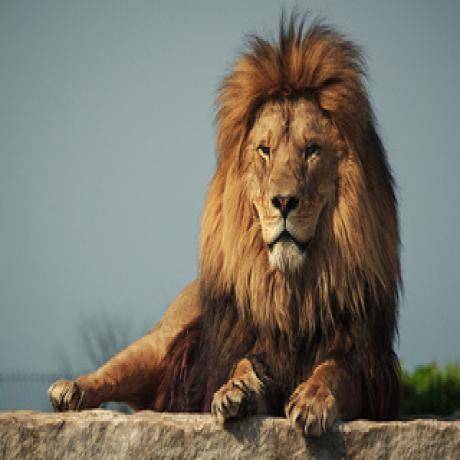Lion: (48, 6, 400, 436)
